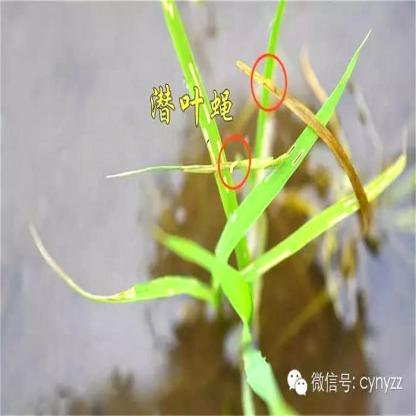whorl-maggot: (228, 154, 240, 180)
